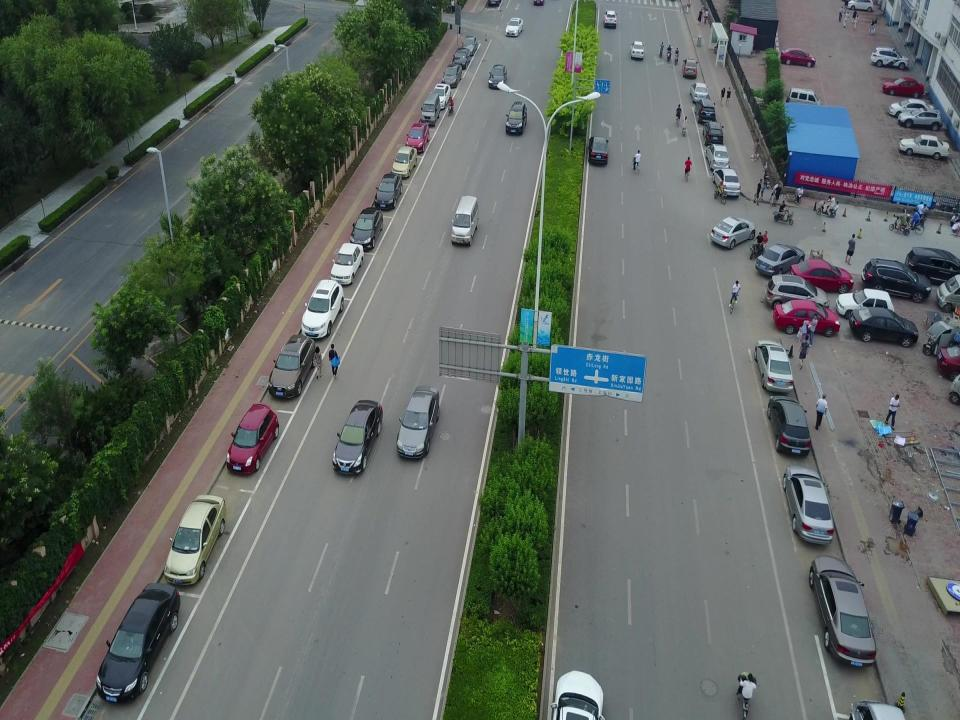car: (97, 583, 179, 703), (810, 557, 876, 669), (162, 496, 224, 582), (784, 466, 834, 545), (332, 399, 382, 474), (227, 402, 279, 473), (396, 387, 440, 458), (861, 259, 930, 300), (269, 335, 315, 396), (300, 281, 344, 339), (850, 307, 918, 343), (774, 299, 842, 335), (769, 398, 811, 456), (555, 670, 603, 720), (754, 339, 794, 392), (788, 258, 852, 291), (766, 275, 828, 307), (906, 245, 960, 280), (752, 244, 808, 272), (710, 216, 756, 249), (836, 291, 894, 316), (332, 242, 364, 283), (348, 208, 383, 245), (898, 134, 950, 158), (897, 108, 943, 129), (881, 75, 924, 97), (888, 98, 934, 118), (376, 173, 402, 207), (780, 47, 818, 67), (505, 101, 527, 135), (714, 170, 740, 195), (873, 49, 909, 67), (394, 146, 416, 175), (704, 143, 729, 167), (589, 135, 609, 164), (407, 121, 427, 150), (694, 98, 716, 121), (702, 121, 724, 143), (430, 84, 451, 106), (442, 63, 462, 86), (690, 81, 710, 102), (489, 64, 507, 87), (452, 46, 470, 69), (505, 17, 523, 37), (461, 34, 477, 56), (681, 59, 697, 78), (603, 9, 617, 28), (630, 41, 644, 58)
van: (451, 196, 479, 245), (937, 274, 960, 309), (788, 88, 822, 108), (421, 94, 438, 125), (846, 0, 873, 11)
